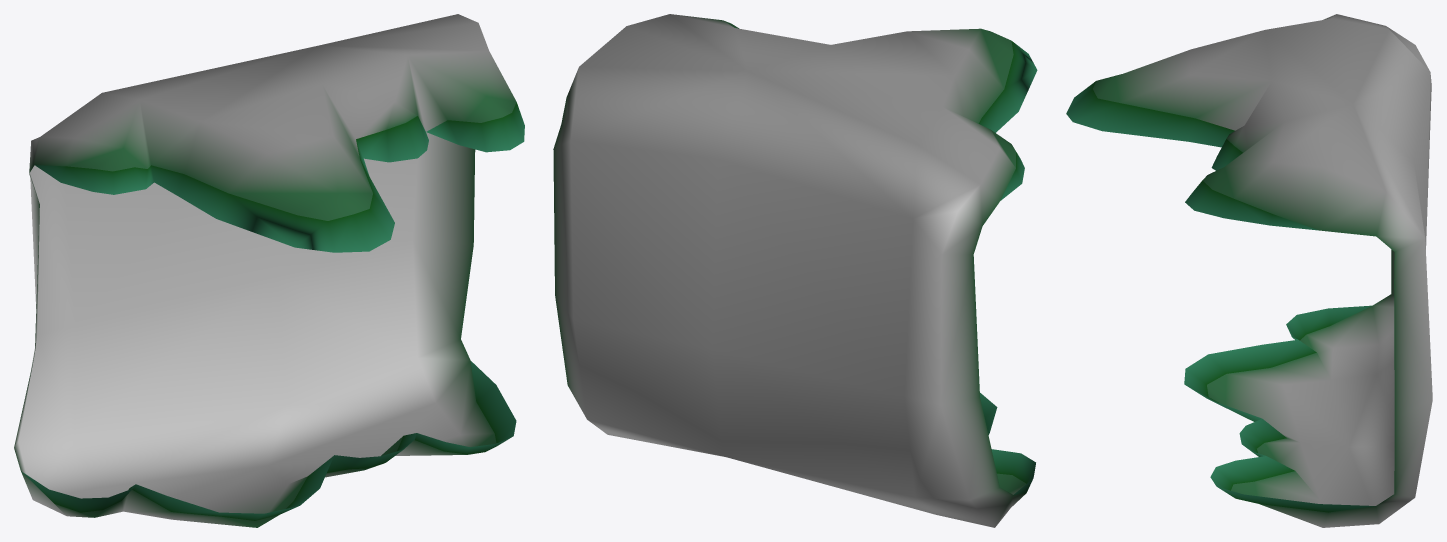
Rendered from SeaweedA.fbx.
3 renders of one model, left to right at view 1: azimuth 30°, elevation 25°; view 2: azimuth 150°, elevation 25°; view 3: azimuth 270°, elevation 25°, orthographic. The views are drawn at different scales.
Parts seen in each view (by area): view 1: MARK4STATIC_PenglantisArchwaySeaweedA (5); view 2: MARK4STATIC_PenglantisArchwaySeaweedA (5); view 3: MARK4STATIC_PenglantisArchwaySeaweedA (5).
Boxes of the visible parts, box(x1,y1,x2,y2) form: MARK4STATIC_PenglantisArchwaySeaweedA (5): box(14, 14, 524, 527); MARK4STATIC_PenglantisArchwaySeaweedA (5): box(553, 14, 1037, 527); MARK4STATIC_PenglantisArchwaySeaweedA (5): box(1066, 14, 1432, 527).
Bounding box in the file's own units: 114 × 96.81 × 85.4.
